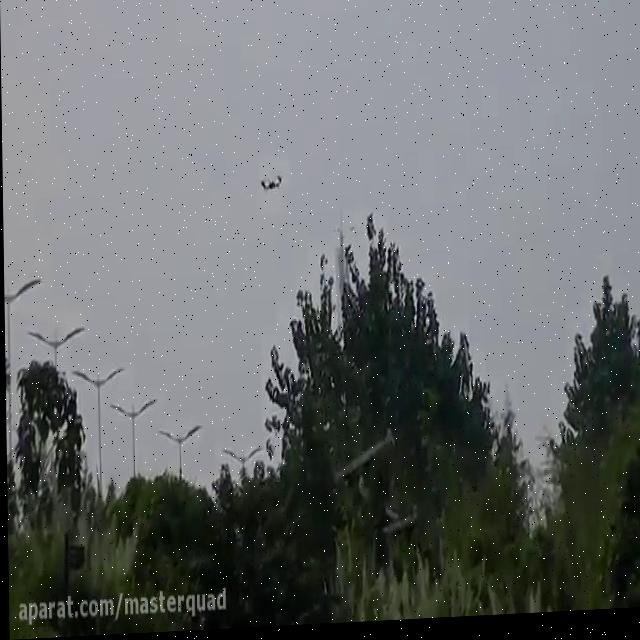drone: (256, 168, 284, 199)
